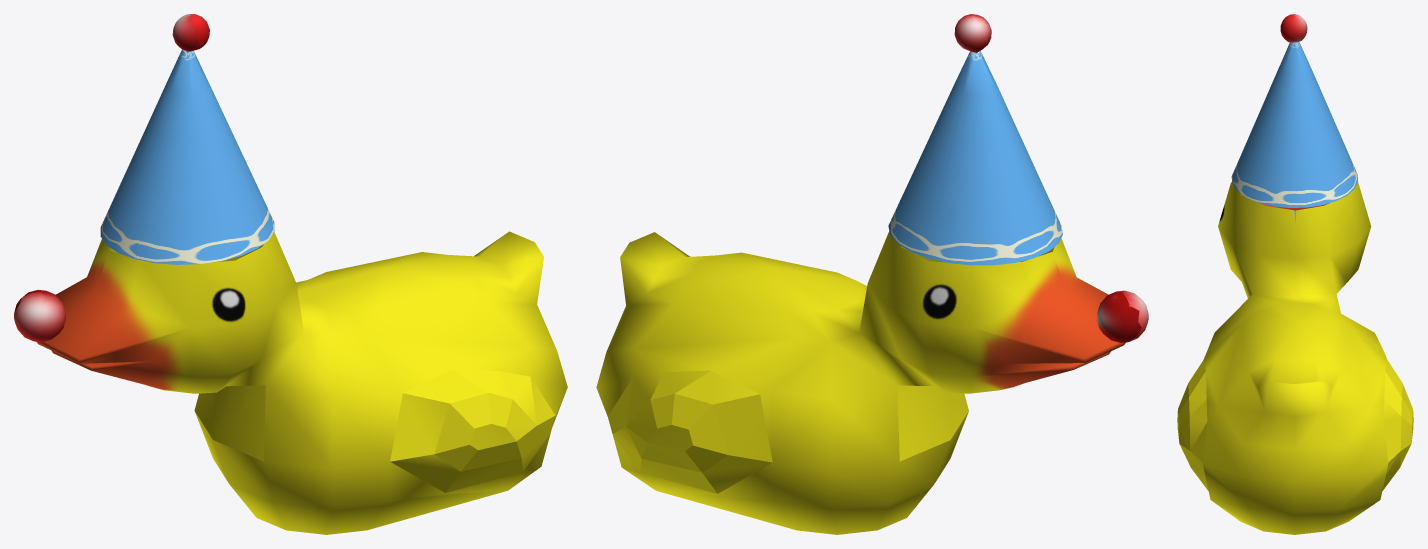
The model's file is Clown Duck YO.FBX.
The picture shows the model from 3 angles, left to right: view 1: azimuth 30°, elevation 25°; view 2: azimuth 150°, elevation 25°; view 3: azimuth 270°, elevation 25°; orthographic projection. The views are drawn at different scales.
Visible parts, largest first — view 1: GeoSphere002; view 2: GeoSphere002; view 3: GeoSphere002.
Part boxes in pixels (box(x1,y1,x2,y2)): GeoSphere002: box(14, 14, 567, 534); GeoSphere002: box(596, 14, 1148, 534); GeoSphere002: box(1177, 14, 1413, 534).
Size of the model in its own units: 195 by 182 by 97.24.
